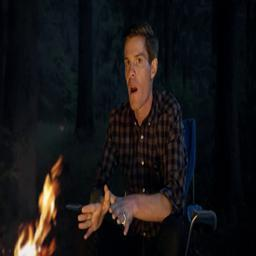fire: (11, 157, 62, 256)
